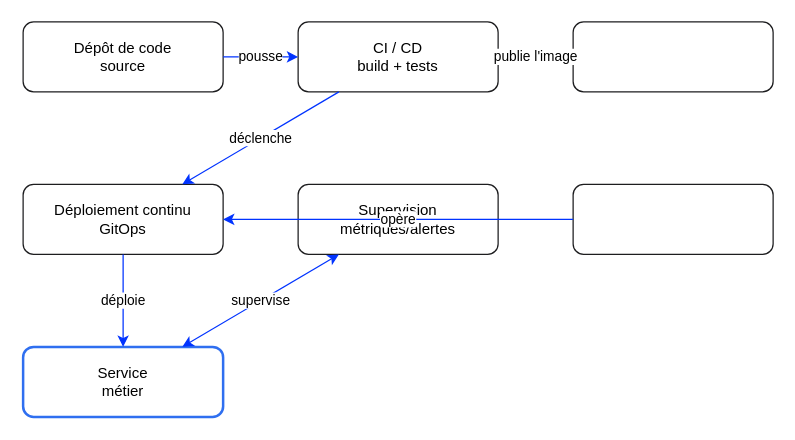
Image size: 795x440. Some labels were removed from this diagram. The shapes that lost their labels are listed below. From the top down, each one's centre as x and y in pixels, then its label:
the point at 672,56: Registre images
the point at 672,218: Exploitation SRE
